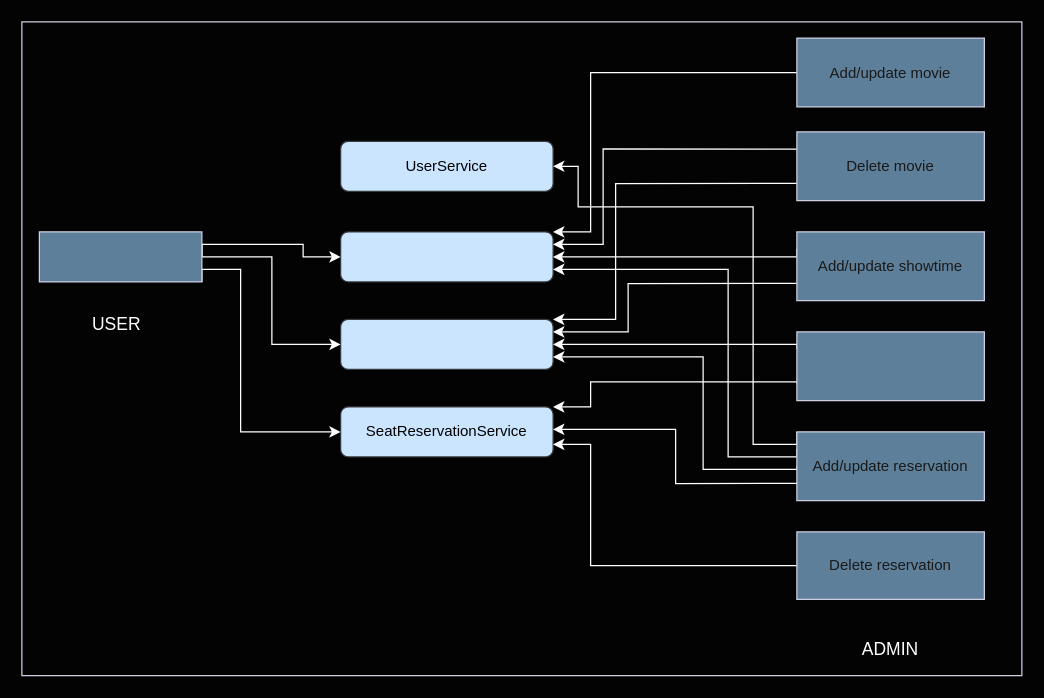
This 1044x698 diagram has some shape labels left out. Each missing label, with the centre of its shape:
Add reservation: (120,256)
Delete showtime: (890,366)
Film Service: (446,256)
ScreeningService: (446,343)
